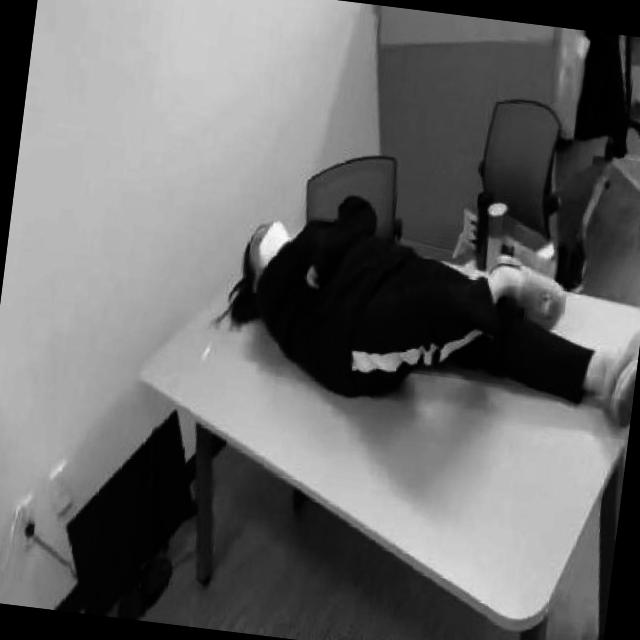person: (223, 181, 640, 438)
